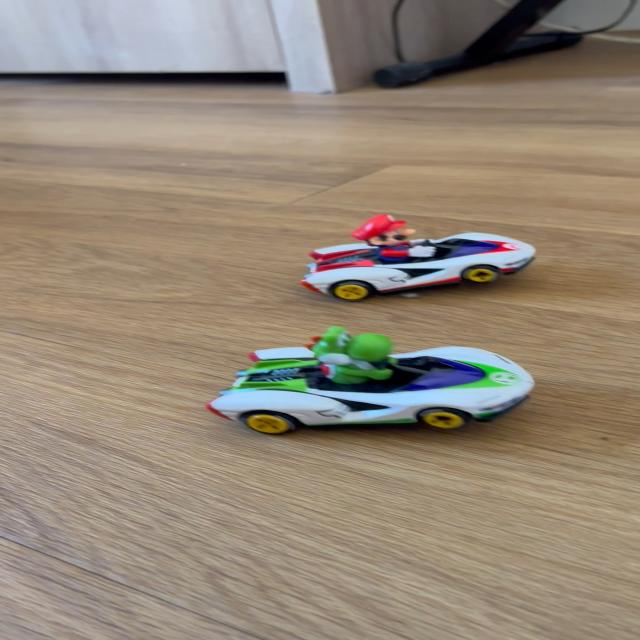mario: (289, 215, 546, 301)
yoshi: (197, 325, 555, 442)
